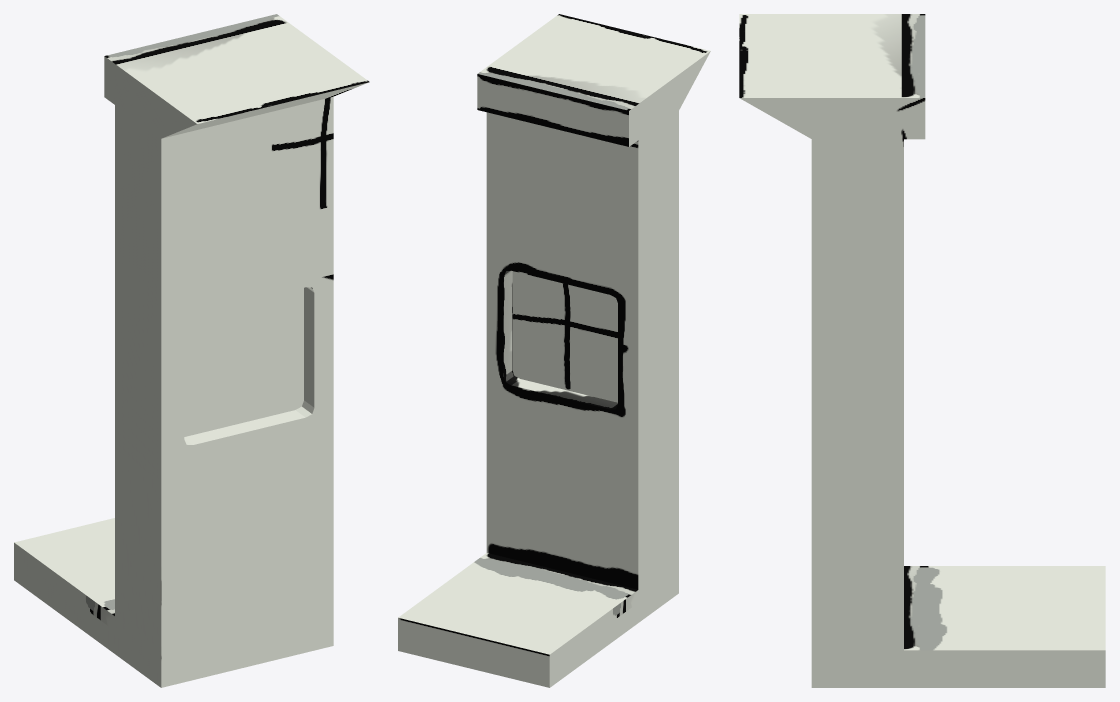
The model's file is bigmode_window.glb.
3 renders of one model, left to right at view 1: azimuth 30°, elevation 25°; view 2: azimuth 150°, elevation 25°; view 3: azimuth 270°, elevation 25°, orthographic. The views are drawn at different scales.
Parts seen in each view (by area): view 1: window; view 2: window; view 3: window.
Part boxes in pixels (box(x1,y1,x2,y2)): window: box(14, 14, 369, 687); window: box(398, 14, 710, 687); window: box(739, 14, 1105, 687).
Bounding box in the file's own units: 0.9863 × 3.22 × 1.81.
1 material, 1 textured.
